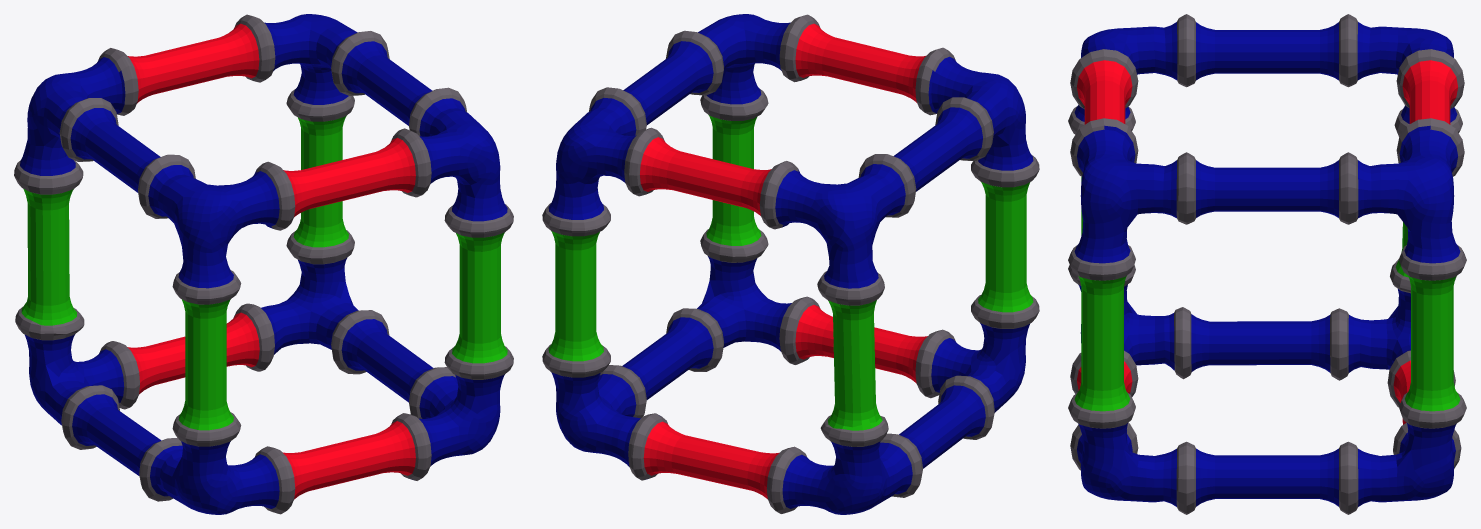
Rendered from rubbercube.fbx.
3 renders of one model, left to right at view 1: azimuth 30°, elevation 25°; view 2: azimuth 150°, elevation 25°; view 3: azimuth 270°, elevation 25°, orthographic. The views are drawn at different scales.
Visible parts, largest first — view 1: RubberCubePlayer; view 2: RubberCubePlayer; view 3: RubberCubePlayer.
Part boxes in pixels (x1,y1,x2,y2): RubberCubePlayer: (14,14,513,514); RubberCubePlayer: (542,14,1039,514); RubberCubePlayer: (1068,14,1466,514).
Bounding box in the file's own units: 1.01 × 1.01 × 1.
